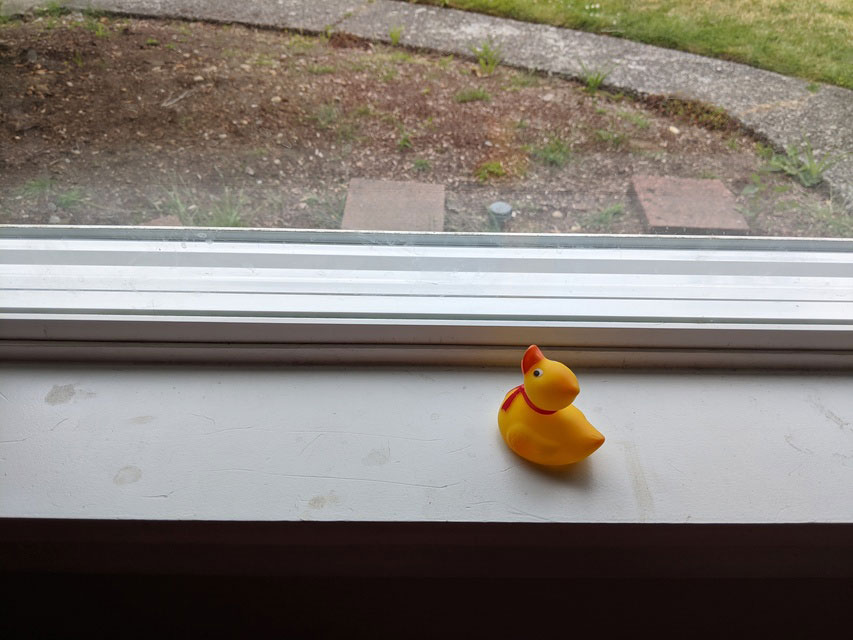ducky: (498, 344, 606, 466)
